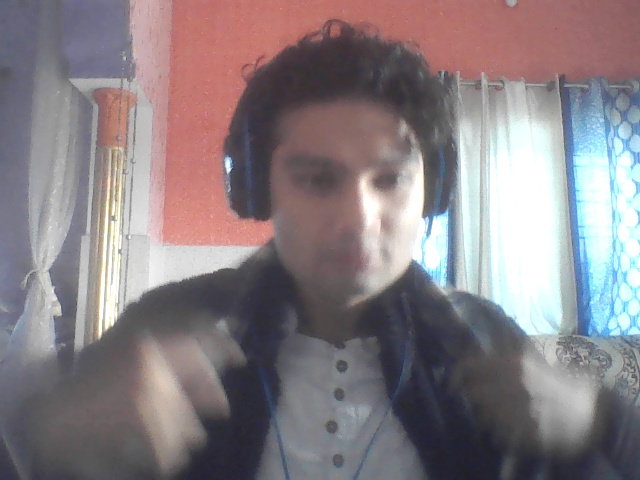real: (229, 21, 446, 328)
